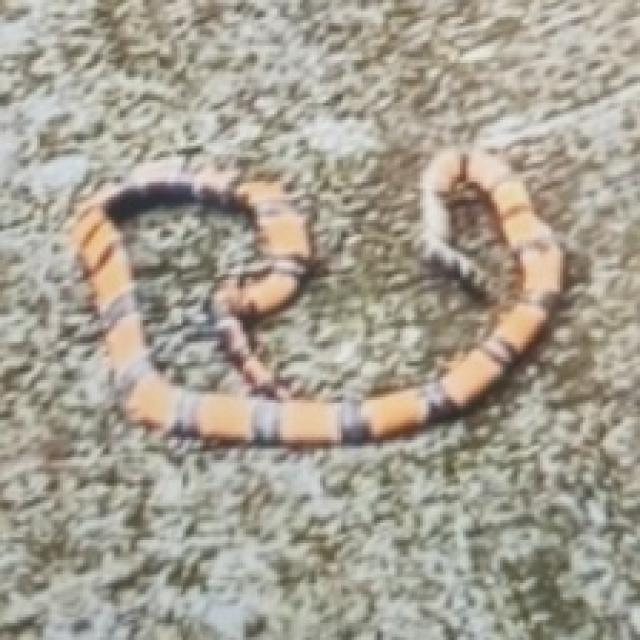barredcoral snake: (71, 149, 563, 443)
